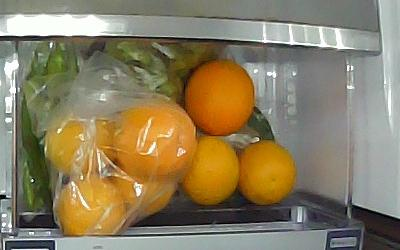orange: (183, 58, 254, 136), (179, 134, 240, 204), (236, 139, 296, 204)
orange_vinyl: (111, 100, 196, 177), (43, 105, 114, 175), (54, 172, 125, 236), (105, 164, 176, 213)
